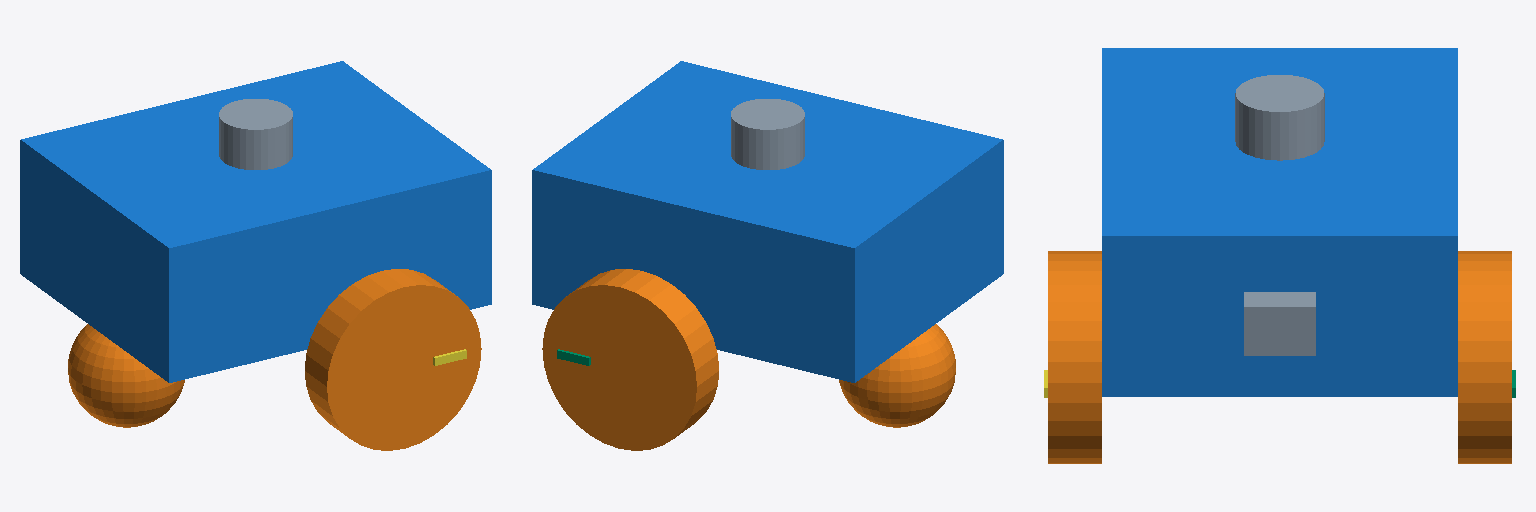
robot.urdf — mobile_robot_complete:
<?xml version="1.0"?>
<robot name="mobile_robot_complete">
    <!-- 材质定义 -->
    <material name="blue">
        <color rgba="0.15 0.55 0.90 1.0"/>
    </material>
    <material name="orange">
        <color rgba="0.95 0.55 0.15 1.0"/>
    </material>
    <material name="gray">
        <color rgba="0.60 0.66 0.72 1.0"/>
    </material>

    <!-- 虚拟地面参考坐标系 -->
    <link name="base_footprint"/>

    <!-- 车身 -->
    <link name="base_link">
        <visual>
            <geometry>
                <box size="0.50 0.40 0.20"/>
            </geometry>
            <material name="blue"/>
        </visual>

        <collision>
            <geometry>
                <box size="0.50 0.40 0.20"/>
            </geometry>
        </collision>

        <inertial>
            <origin xyz="0 0 0" rpy="0 0 0"/>
            <mass value="8.0"/>
            <inertia
                ixx="0.1333333333" ixy="0" ixz="0"
                iyy="0.1933333333" iyz="0"
                izz="0.2733333333"/>
        </inertial>
    </link>

    <joint name="base_footprint_joint" type="fixed">
        <parent link="base_footprint"/>
        <child link="base_link"/>
        <origin xyz="0 0 0.25"/>
    </joint>

    <!-- 左驱动轮 -->
    <link name="left_wheel_link">
        <visual>
            <origin rpy="1.5708 0 0"/>
            <geometry>
                <cylinder radius="0.12" length="0.06"/>
            </geometry>
            <material name="orange"/>
        </visual>

        <!-- 左轮外侧旋转标记 -->
        <visual>
            <origin xyz="0.07 0.032 0"/>
            <geometry>
                <box size="0.05 0.005 0.012"/>
            </geometry>
        </visual>

        <collision>
            <origin rpy="1.5708 0 0"/>
            <geometry>
                <cylinder radius="0.12" length="0.06"/>
            </geometry>
        </collision>

        <inertial>
            <origin xyz="0 0 0" rpy="0 0 0"/>
            <mass value="0.8"/>
            <inertia
                ixx="0.0031200000" ixy="0" ixz="0"
                iyy="0.0057600000" iyz="0"
                izz="0.0031200000"/>
        </inertial>
    </link>

    <joint name="left_wheel_joint" type="continuous">
        <parent link="base_link"/>
        <child link="left_wheel_link"/>
        <origin xyz="0.08 0.23 -0.13"/>
        <axis xyz="0 1 0"/>
    </joint>

    <!-- 右驱动轮 -->
    <link name="right_wheel_link">
        <visual>
            <origin rpy="1.5708 0 0"/>
            <geometry>
                <cylinder radius="0.12" length="0.06"/>
            </geometry>
            <material name="orange"/>
        </visual>

        <!-- 右轮外侧旋转标记 -->
        <visual>
            <origin xyz="0.07 -0.032 0"/>
            <geometry>
                <box size="0.05 0.005 0.012"/>
            </geometry>
        </visual>

        <collision>
            <origin rpy="1.5708 0 0"/>
            <geometry>
                <cylinder radius="0.12" length="0.06"/>
            </geometry>
        </collision>

        <inertial>
            <origin xyz="0 0 0" rpy="0 0 0"/>
            <mass value="0.8"/>
            <inertia
                ixx="0.0031200000" ixy="0" ixz="0"
                iyy="0.0057600000" iyz="0"
                izz="0.0031200000"/>
        </inertial>
    </link>

    <joint name="right_wheel_joint" type="continuous">
        <parent link="base_link"/>
        <child link="right_wheel_link"/>
        <origin xyz="0.08 -0.23 -0.13"/>
        <axis xyz="0 1 0"/>
    </joint>

    <!-- 后部辅助支撑轮 -->
    <link name="caster_link">
        <visual>
            <geometry>
                <sphere radius="0.08"/>
            </geometry>
            <material name="orange"/>
        </visual>

        <collision>
            <geometry>
                <sphere radius="0.08"/>
            </geometry>
        </collision>

        <inertial>
            <origin xyz="0 0 0" rpy="0 0 0"/>
            <mass value="0.2"/>
            <inertia
                ixx="0.0005120000" ixy="0" ixz="0"
                iyy="0.0005120000" iyz="0"
                izz="0.0005120000"/>
        </inertial>
    </link>

    <joint name="caster_joint" type="fixed">
        <parent link="base_link"/>
        <child link="caster_link"/>
        <origin xyz="-0.20 0 -0.17"/>
    </joint>

    <!-- 激光雷达 -->
    <link name="lidar_link">
        <visual>
            <geometry>
                <cylinder radius="0.05" length="0.06"/>
            </geometry>
            <material name="gray"/>
        </visual>

        <collision>
            <geometry>
                <cylinder radius="0.05" length="0.06"/>
            </geometry>
        </collision>

        <inertial>
            <origin xyz="0 0 0" rpy="0 0 0"/>
            <mass value="0.35"/>
            <inertia
                ixx="0.0003237500" ixy="0" ixz="0"
                iyy="0.0003237500" iyz="0"
                izz="0.0004375000"/>
        </inertial>
    </link>

    <joint name="lidar_joint" type="fixed">
        <parent link="base_link"/>
        <child link="lidar_link"/>
        <origin xyz="0 0 0.13"/>
    </joint>

    <!-- 摄像头 -->
    <link name="camera_link">
        <visual>
            <geometry>
                <box size="0.04 0.08 0.06"/>
            </geometry>
            <material name="gray"/>
        </visual>

        <collision>
            <geometry>
                <box size="0.04 0.08 0.06"/>
            </geometry>
        </collision>

        <inertial>
            <origin xyz="0 0 0" rpy="0 0 0"/>
            <mass value="0.15"/>
            <inertia
                ixx="0.0001250000" ixy="0" ixz="0"
                iyy="0.0000650000" iyz="0"
                izz="0.0001000000"/>
        </inertial>
    </link>

    <joint name="camera_joint" type="fixed">
        <parent link="base_link"/>
        <child link="camera_link"/>
        <origin xyz="0.27 0 0"/>
    </joint>

    <!-- 惯性测量单元 -->
    <link name="imu_link">
        <visual>
            <geometry>
                <box size="0.04 0.03 0.01"/>
            </geometry>
            <material name="gray"/>
        </visual>

        <inertial>
            <origin xyz="0 0 0" rpy="0 0 0"/>
            <mass value="0.02"/>
            <inertia
                ixx="0.0000016667" ixy="0" ixz="0"
                iyy="0.0000028333" iyz="0"
                izz="0.0000041667"/>
        </inertial>
    </link>

    <joint name="imu_joint" type="fixed">
        <parent link="base_link"/>
        <child link="imu_link"/>
        <origin xyz="-0.05 0 0"/>
    </joint>
</robot>

--- Render facts (derived) ---
3 views of the same robot in one strip: view 1: azimuth 30°, elevation 25°; view 2: azimuth 150°, elevation 25°; view 3: azimuth 270°, elevation 25° (orthographic).
Robot: mobile_robot_complete — 8 links, 7 joints (2 continuous, 5 fixed); root link base_footprint; default pose: every joint at zero.
Links seen in each view (by area): view 1: base_link, right_wheel_link, caster_link, lidar_link; view 2: base_link, left_wheel_link, caster_link, lidar_link; view 3: base_link, left_wheel_link, right_wheel_link, lidar_link, camera_link.
Link boxes in pixels (x1,y1,x2,y2): base_link: (20, 61, 491, 382); right_wheel_link: (305, 269, 481, 450); caster_link: (68, 324, 184, 427); lidar_link: (219, 99, 292, 169); base_link: (532, 61, 1003, 382); left_wheel_link: (542, 269, 718, 450); caster_link: (839, 324, 955, 427); lidar_link: (731, 99, 804, 169); base_link: (1102, 48, 1457, 396); left_wheel_link: (1458, 251, 1515, 463); right_wheel_link: (1044, 251, 1101, 463); lidar_link: (1235, 75, 1324, 160); camera_link: (1244, 292, 1315, 355).
Size in the robot's own frame: 0.57 by 0.529 by 0.41 metres.
Geometry: primitives only (box / cylinder / sphere), no mesh files.
